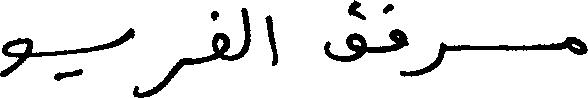X: (324, 0, 366, 66), (0, 33, 32, 81), (151, 53, 183, 97), (389, 0, 406, 81), (418, 37, 443, 80), (212, 6, 228, 65), (265, 10, 278, 70), (124, 23, 134, 97), (241, 3, 251, 62), (568, 32, 587, 59)
